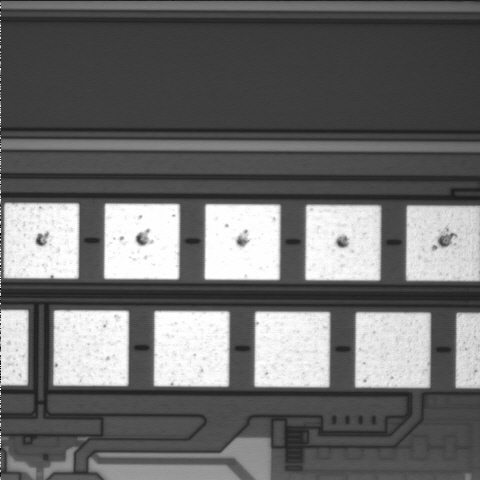pad: (204, 204, 280, 280), (53, 310, 129, 386), (4, 203, 79, 279), (104, 204, 180, 279), (305, 205, 381, 280), (154, 311, 229, 387), (254, 312, 330, 387), (355, 312, 430, 388)
